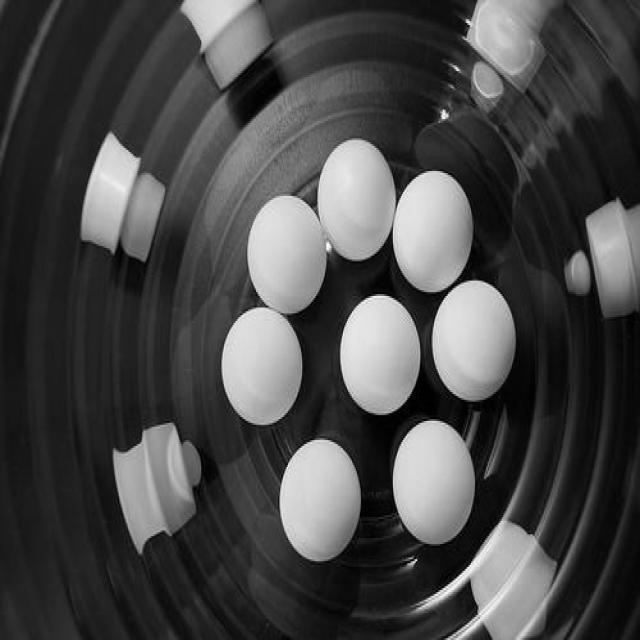ping-pong-ball: (278, 438, 364, 566), (392, 420, 477, 546), (433, 278, 519, 400), (391, 166, 474, 292), (338, 296, 421, 416), (247, 195, 328, 316), (222, 308, 305, 424), (318, 139, 396, 260)
